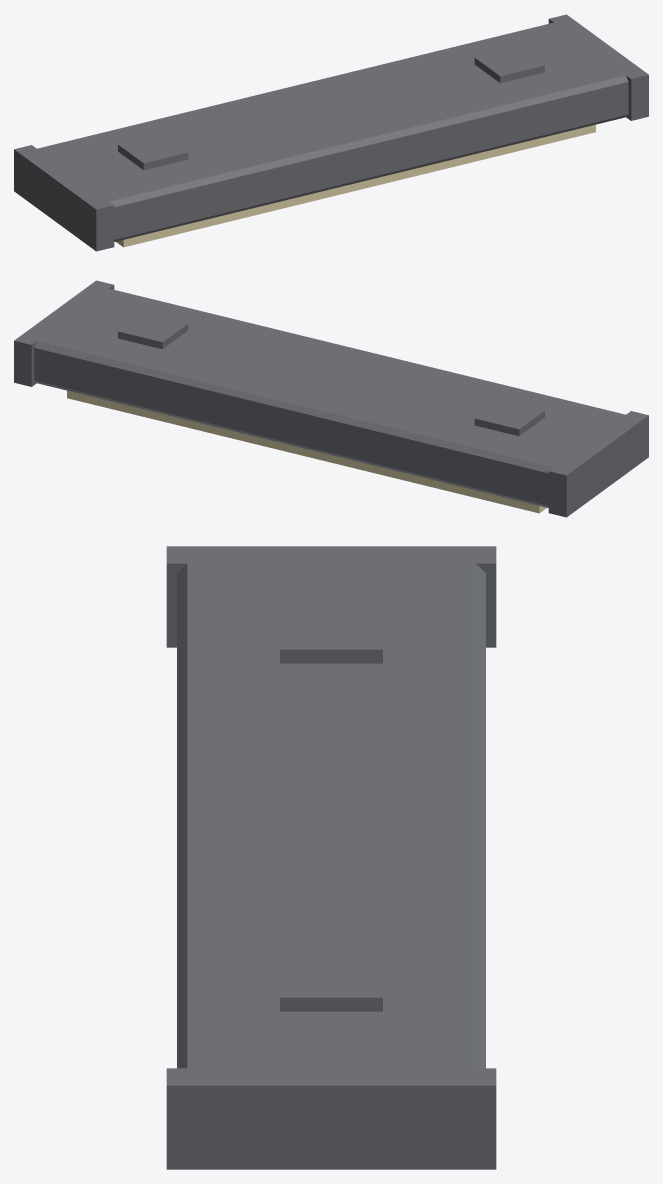
The model's file is SM_K_CeilingLight.obj.
The picture shows the model from 3 angles, top to bottom: view 1: azimuth 30°, elevation 25°; view 2: azimuth 150°, elevation 25°; view 3: azimuth 270°, elevation 25°; orthographic projection. The views are drawn at different scales.
Parts seen in each view (by area): view 1: SM_K_CeilingLight; view 2: SM_K_CeilingLight; view 3: SM_K_CeilingLight.
Boxes of the visible parts, <box> form: SM_K_CeilingLight: <box>14,14,648,251</box>; SM_K_CeilingLight: <box>14,280,648,517</box>; SM_K_CeilingLight: <box>166,546,496,1169</box>.
Bounding box in the file's own units: 1.24 × 0.1375 × 0.32.
